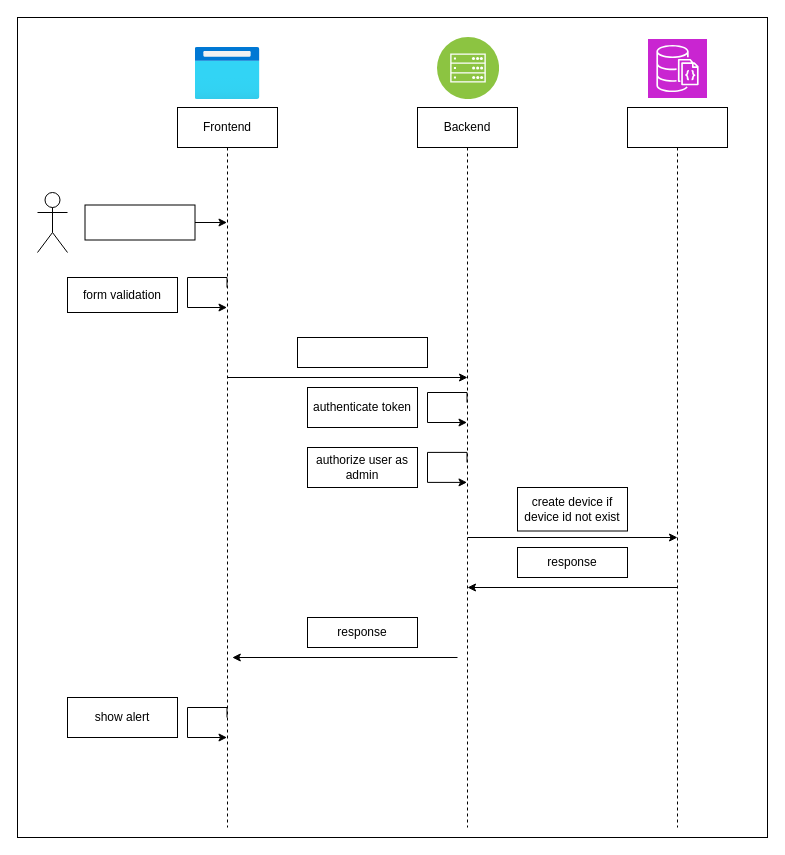
Image size: 785x855. Some labels were removed from this diagram. The box of each missing label's shape, as (x1, y1, x2, y2) in pixels:
access token, device details: (296, 336, 428, 368)
Admin: (36, 192, 68, 252)
Database: (626, 106, 728, 828)
device details: (84, 204, 195, 240)
